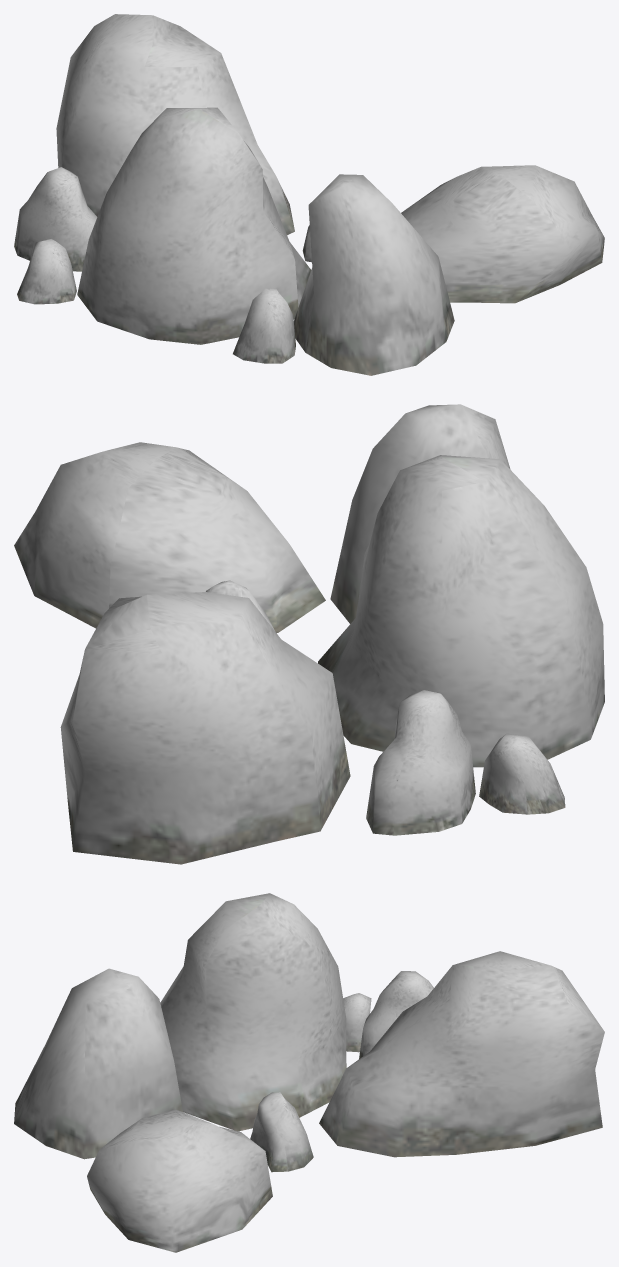
Rendered from shrine_rock_04.fbx.
3 views of the same model, one above another, from view 1: azimuth 30°, elevation 25°; view 2: azimuth 150°, elevation 25°; view 3: azimuth 270°, elevation 25° (orthographic). The views are drawn at different scales.
Visible parts, largest first — view 1: Shrine_rock_04; view 2: Shrine_rock_04; view 3: Shrine_rock_04.
Boxes of the visible parts, bbox=[...] form: Shrine_rock_04: bbox=[14, 14, 604, 375]; Shrine_rock_04: bbox=[14, 404, 604, 864]; Shrine_rock_04: bbox=[14, 893, 604, 1252].
Size of the model in its own units: 6.2 by 2.29 by 6.63.
